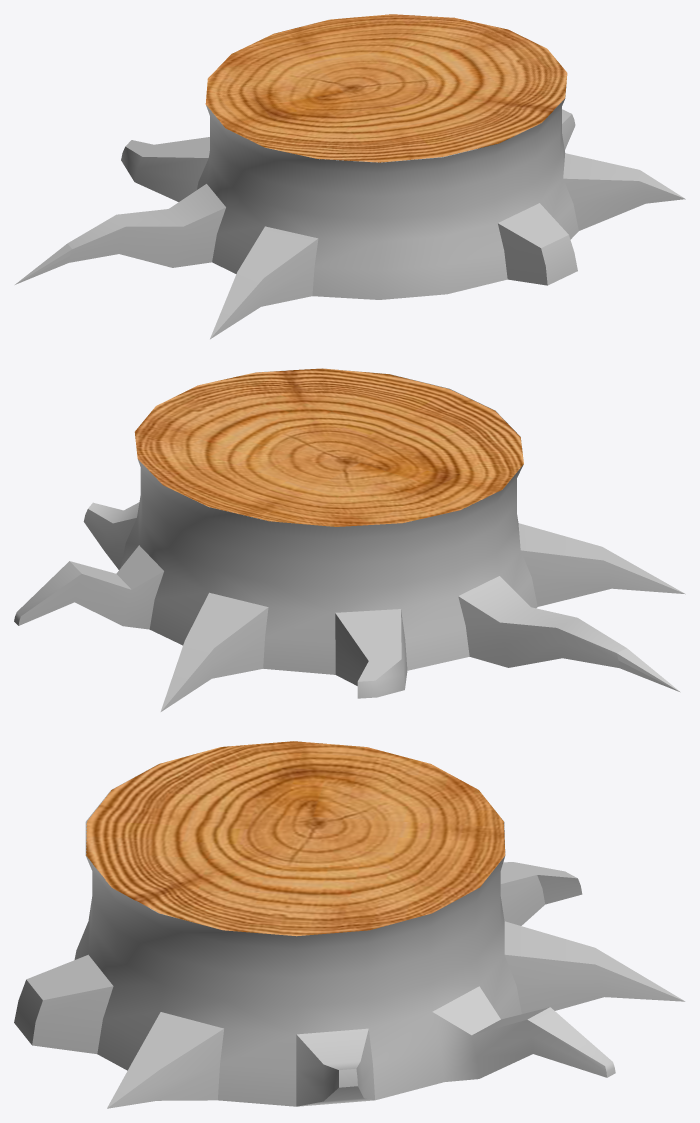
File: treebase 1.fbx
3 renders of one model, top to bottom at view 1: azimuth 30°, elevation 25°; view 2: azimuth 150°, elevation 25°; view 3: azimuth 270°, elevation 25°, orthographic. The views are drawn at different scales.
Parts seen in each view (by area): view 1: Cylinder001; view 2: Cylinder001; view 3: Cylinder001.
Boxes of the visible parts, x1=… form: Cylinder001: x1=15, y1=14, x2=685, y2=339; Cylinder001: x1=14, y1=368, x2=685, y2=711; Cylinder001: x1=14, y1=741, x2=685, y2=1108.
Size of the model in its own units: 1194 by 267 by 978.
